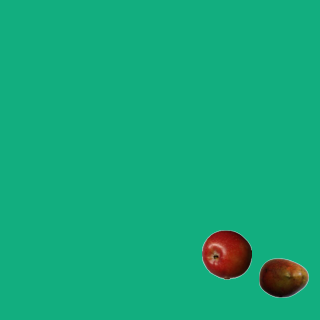Apple Braeburn: (201, 229, 251, 279)
Mango Red: (258, 252, 308, 302)
